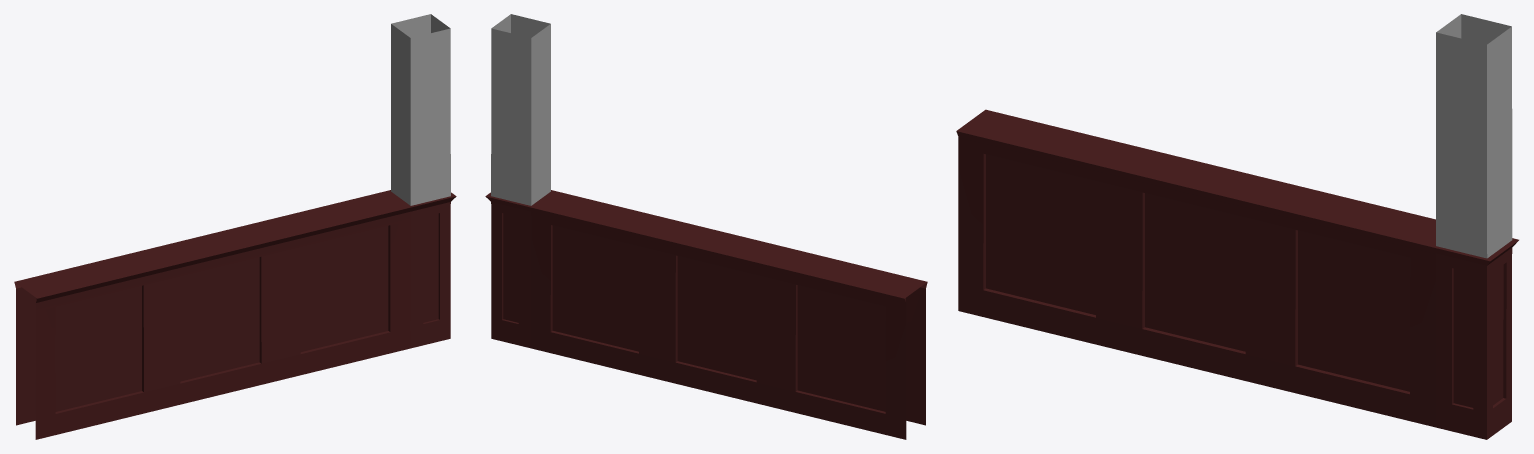
Rendered from CeilingSupport.fbx.
The picture shows the model from 3 angles, left to right: view 1: azimuth 30°, elevation 25°; view 2: azimuth 150°, elevation 25°; view 3: azimuth 330°, elevation 25°; orthographic projection. The views are drawn at different scales.
Visible parts, largest first — view 1: WallOneSide24; view 2: WallOneSide24; view 3: WallOneSide24.
Part boxes in pixels (bbox=[...]): WallOneSide24: bbox=[14, 14, 456, 439]; WallOneSide24: bbox=[485, 14, 927, 439]; WallOneSide24: bbox=[956, 14, 1518, 439].
Size of the model in its own units: 4.47 by 3.16 by 0.4256.
